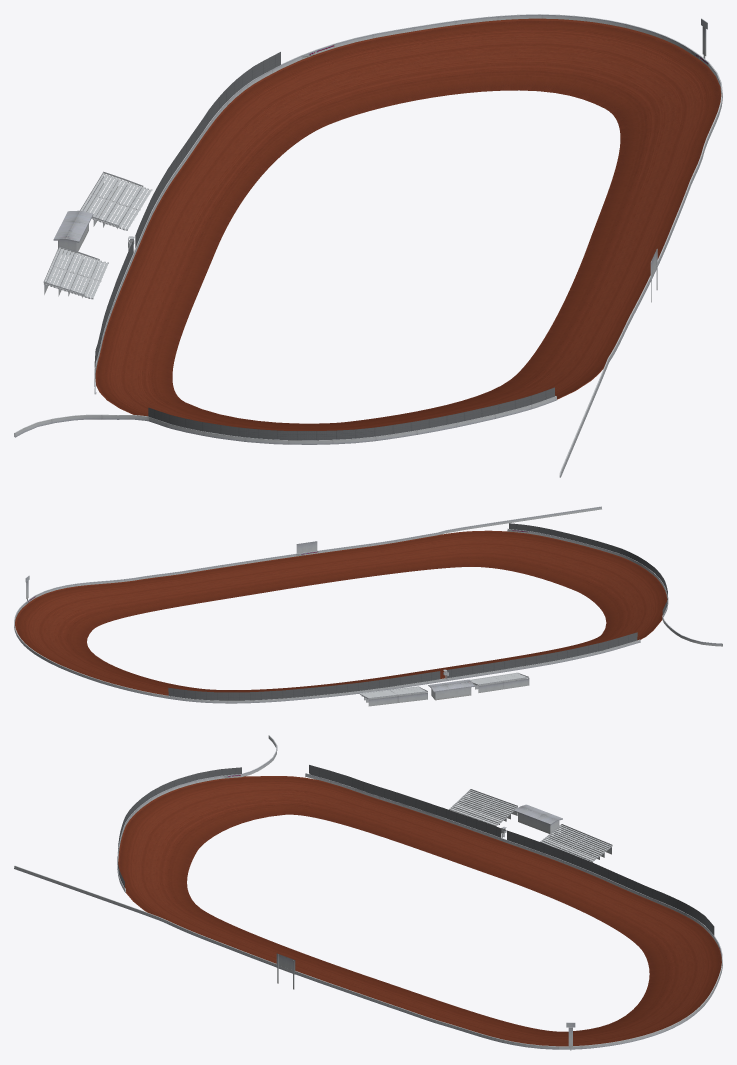
The model's file is trackOval.glb.
The picture shows the model from 3 angles, top to bottom: view 1: azimuth 30°, elevation 25°; view 2: azimuth 150°, elevation 25°; view 3: azimuth 270°, elevation 25°; orthographic projection. The views are drawn at different scales.
Parts seen in each view (by area): view 1: Object_4, Object_5, Object_6; view 2: Object_4, Object_5, Object_6; view 3: Object_4, Object_5, Object_6.
Boxes of the visible parts, x1,y1,x2,y2 form: Object_4: (95, 18, 721, 430); Object_5: (14, 14, 722, 477); Object_6: (94, 52, 554, 440); Object_4: (15, 530, 667, 695); Object_5: (14, 506, 722, 706); Object_6: (168, 523, 667, 700); Object_4: (118, 776, 721, 1046); Object_5: (14, 735, 722, 1050); Object_6: (117, 765, 714, 935).
Size of what is drawn, in the model's own units: 839 by 63.36 by 794.
4 materials, 4 textured.
